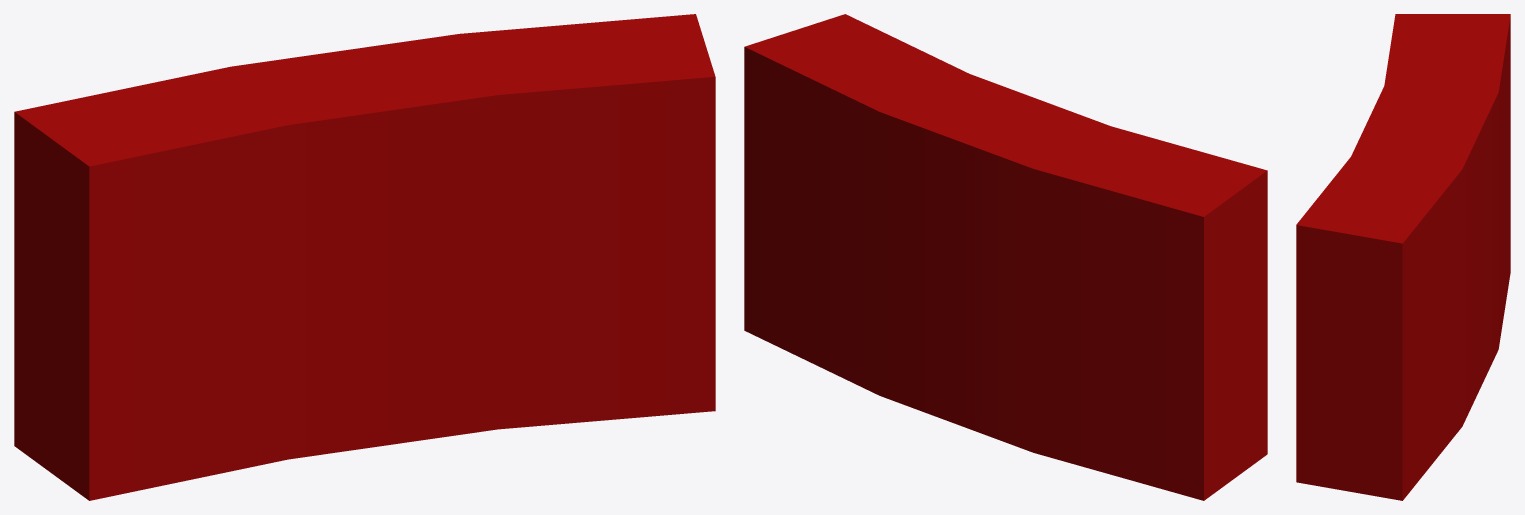
File: block1.fbx
3 views of the same model, side by side, from view 1: azimuth 30°, elevation 25°; view 2: azimuth 150°, elevation 25°; view 3: azimuth 270°, elevation 25° (orthographic). The views are drawn at different scales.
Visible parts, largest first — view 1: block1; view 2: block1; view 3: block1.
Boxes of the visible parts, x1=… form: block1: x1=14, y1=14, x2=715, y2=500; block1: x1=744, y1=14, x2=1267, y2=500; block1: x1=1296, y1=14, x2=1510, y2=500.
Bounding box in the file's own units: 3.83 × 2 × 1.51.
